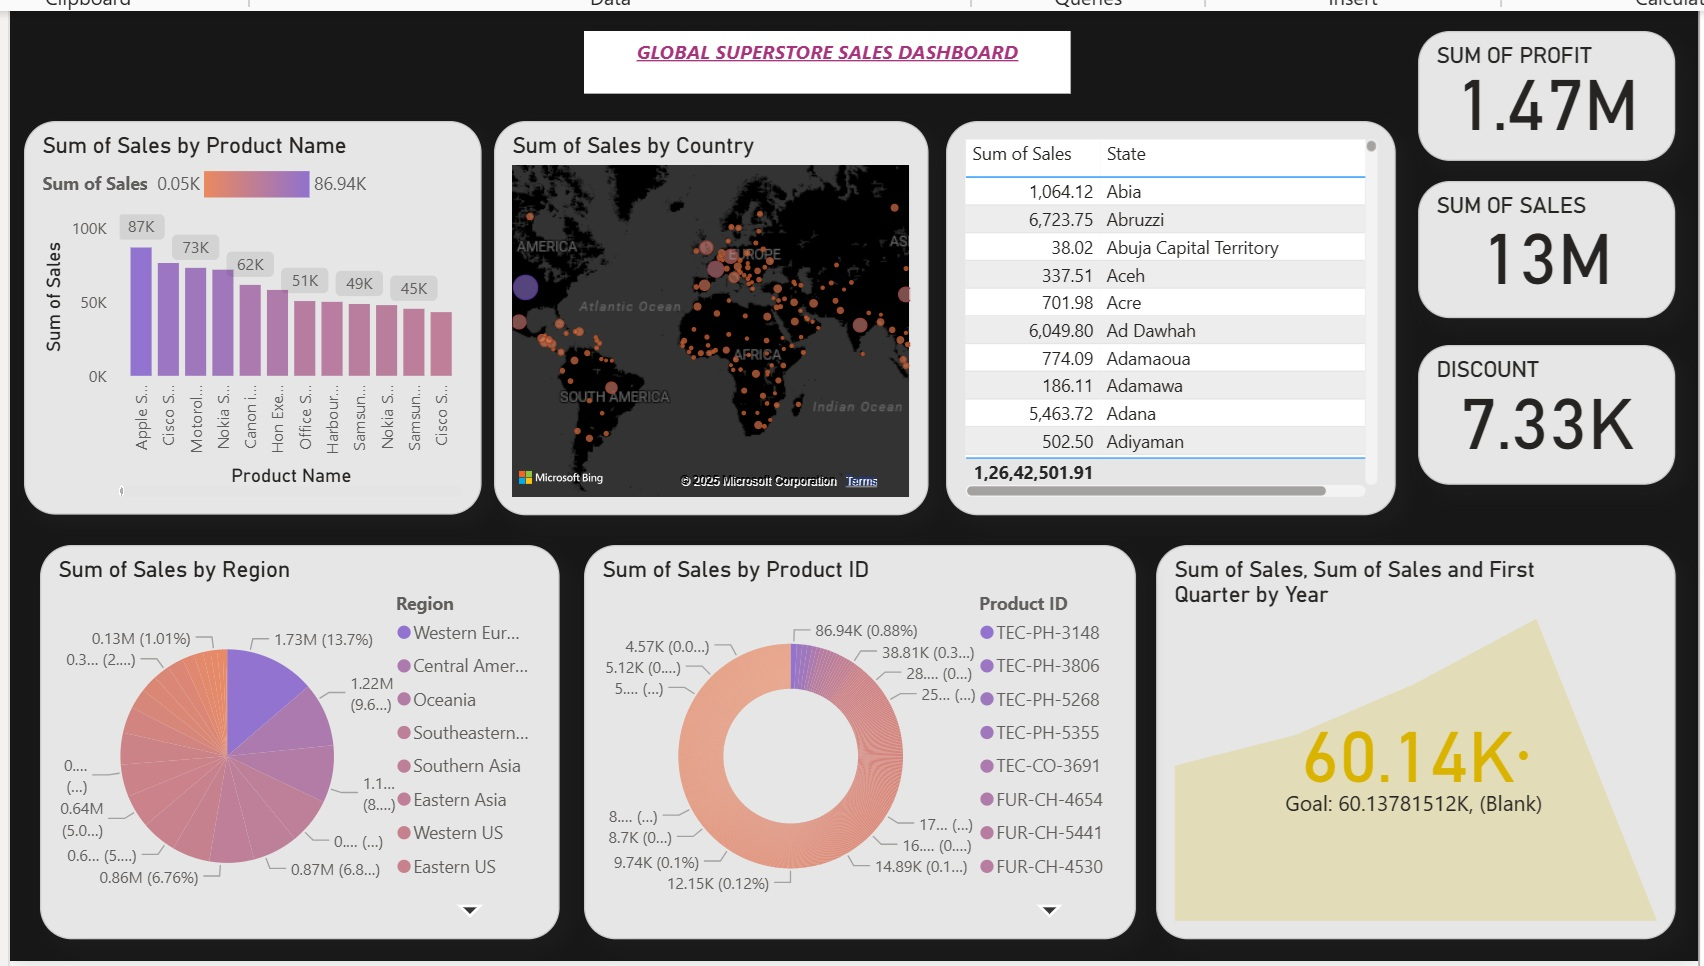

Layout of this report page (visuals, bound fields, positions):
{"tool":"powerbi","page":{"name":"Page 1","canvas":[1280,720],"ordinal":0},"visuals":[{"type":"textbox","box":[435.5,15.1,369.2,47.3],"z":0},{"type":"clusteredColumnChart","fields":{"Y":["Sum(Orders.Sales)"],"Category":["Orders.Product Name"]},"box":[10.8,83.8,347.2,298.5],"z":1000},{"type":"pieChart","fields":{"Y":["Sum(Orders.Sales)"],"Category":["Orders.Region"]},"box":[22.7,405.2,393.8,299.2],"z":2000},{"type":"map","fields":{"Size":["Sum(Orders.Sales)"],"Category":["Orders.Country"]},"box":[367.3,83.3,329.5,299.2],"z":3000},{"type":"kpi","fields":{"Indicator":["Sum(Orders.Sales)"],"Goal":["Sum(Orders.Sales)","Min(Orders.Ship Date.Variation.Date Hierarchy.Quarter)"],"TrendLine":["Orders.Ship Date.Variation.Date Hierarchy.Year"]},"box":[869.1,405.2,393.8,299.2],"z":4000},{"type":"tableEx","fields":{"Values":["Sum(Orders.Sales)","Orders.State"]},"box":[710.1,83.3,340.8,299.2],"z":5000},{"type":"donutChart","fields":{"Y":["Sum(Orders.Sales)"],"Category":["Orders.Product ID"]},"box":[435.5,405.2,418.5,299.2],"z":6000},{"type":"card","title":"SUM OF PROFIT","fields":{"Values":["Sum(Orders.Profit)"]},"box":[1067.9,15.1,195,98.5],"z":7000},{"type":"card","title":"SUM OF SALES","fields":{"Values":["Sum(Orders.Sales)"]},"box":[1067.9,128.8,195,104.1],"z":8000},{"type":"card","title":"DISCOUNT","fields":{"Values":["Sum(Orders.Discount)"]},"box":[1067.9,253.7,195,106],"z":9000}]}

Visuals, with their boxes in screenshot pixels (x1, y1, x2, y2):
textbox: (x1=581, y1=29, x2=1065, y2=91)
clusteredColumnChart - Sum(Orders.Sales) x Orders.Product Name: (x1=23, y1=119, x2=479, y2=511)
pieChart - Sum(Orders.Sales) x Orders.Region: (x1=39, y1=541, x2=556, y2=934)
map - Sum(Orders.Sales) x Orders.Country: (x1=491, y1=118, x2=924, y2=511)
kpi - Sum(Orders.Sales) x Sum(Orders.Sales): (x1=1150, y1=541, x2=1667, y2=934)
tableEx - Sum(Orders.Sales) x Orders.State: (x1=941, y1=118, x2=1389, y2=511)
donutChart - Sum(Orders.Sales) x Orders.Product ID: (x1=581, y1=541, x2=1130, y2=934)
"SUM OF PROFIT" card: (x1=1411, y1=29, x2=1667, y2=158)
"SUM OF SALES" card: (x1=1411, y1=178, x2=1667, y2=315)
"DISCOUNT" card: (x1=1411, y1=342, x2=1667, y2=481)
